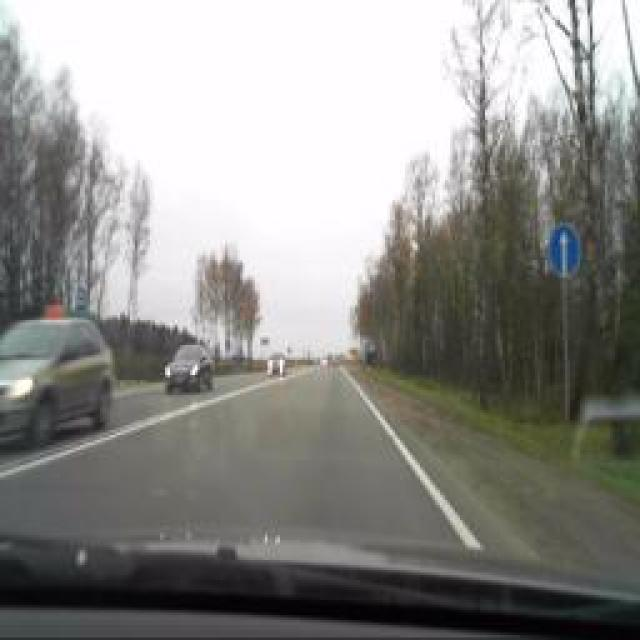sign: (548, 221, 580, 281)
